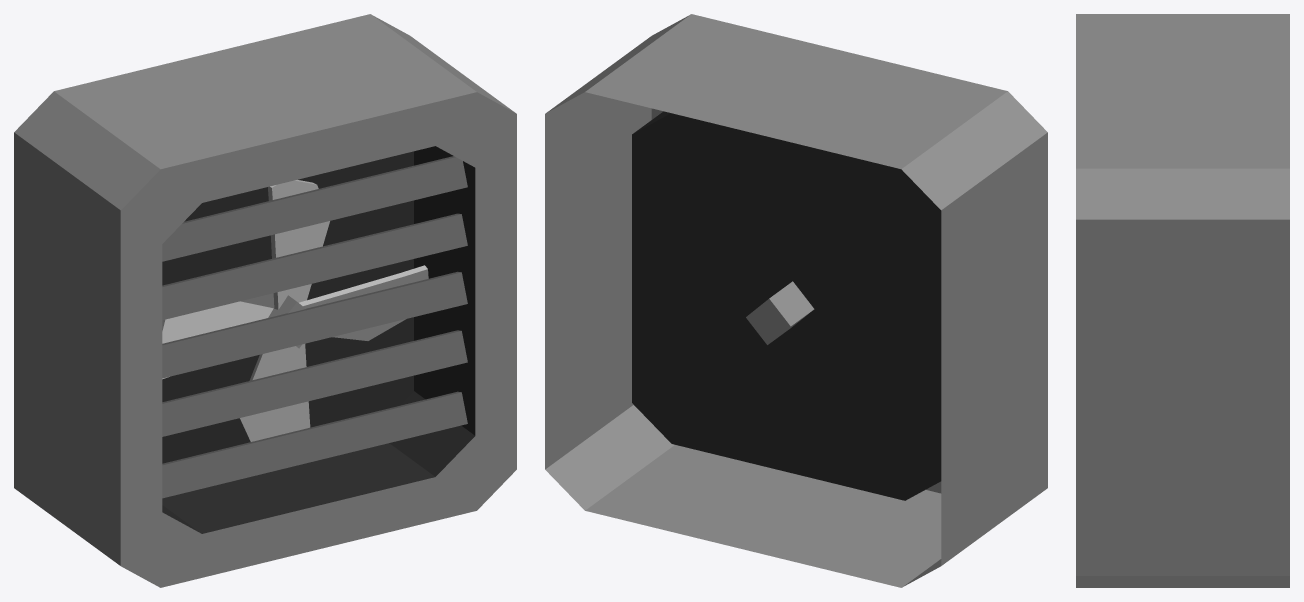
The model's file is vent_D.FBX.
3 views of the same model, side by side, from view 1: azimuth 30°, elevation 25°; view 2: azimuth 150°, elevation 25°; view 3: azimuth 270°, elevation 25° (orthographic).
Visible parts, largest first — view 1: vent_D; view 2: vent_D; view 3: vent_D.
Boxes of the visible parts, <box> form: vent_D: <box>14,14,516,587</box>; vent_D: <box>545,14,1047,587</box>; vent_D: <box>1076,14,1289,587</box>.
Size of the model in its own units: 18.59 by 18.78 by 8.67.
